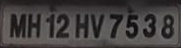character: (9, 12, 26, 39), (55, 12, 70, 38), (108, 12, 123, 38), (26, 12, 41, 37), (125, 13, 139, 38), (160, 13, 174, 38), (74, 13, 88, 37), (90, 13, 104, 37), (142, 13, 156, 37), (45, 11, 55, 38)
